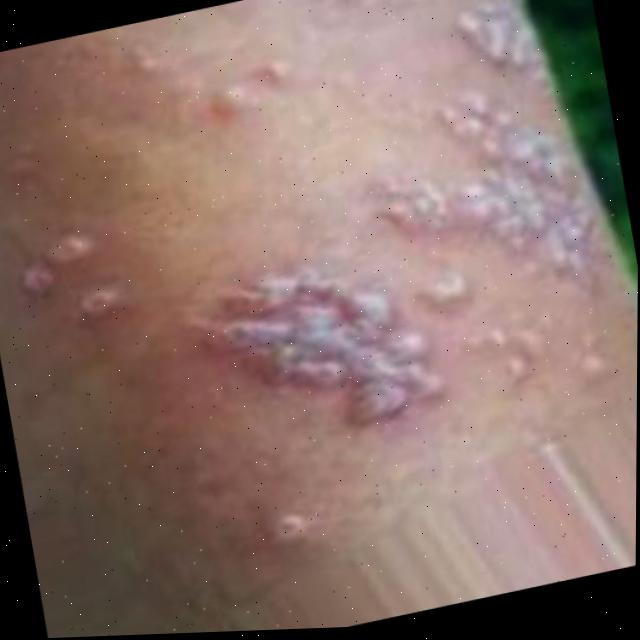Shingles: (164, 0, 627, 438)
